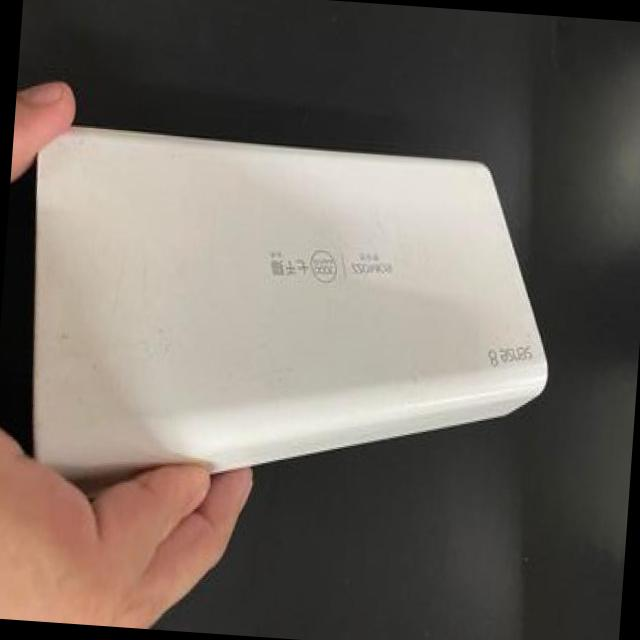power_bank: (8, 117, 570, 532)
